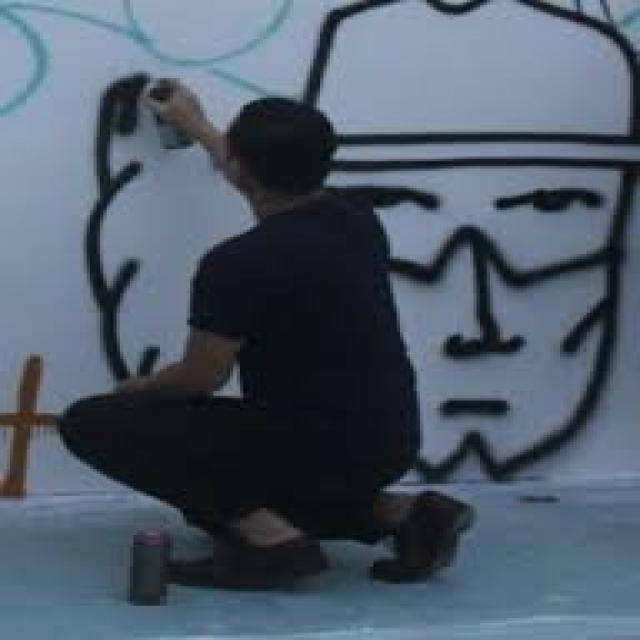-: (88, 0, 640, 478), (1, 1, 298, 112), (0, 354, 64, 498)
